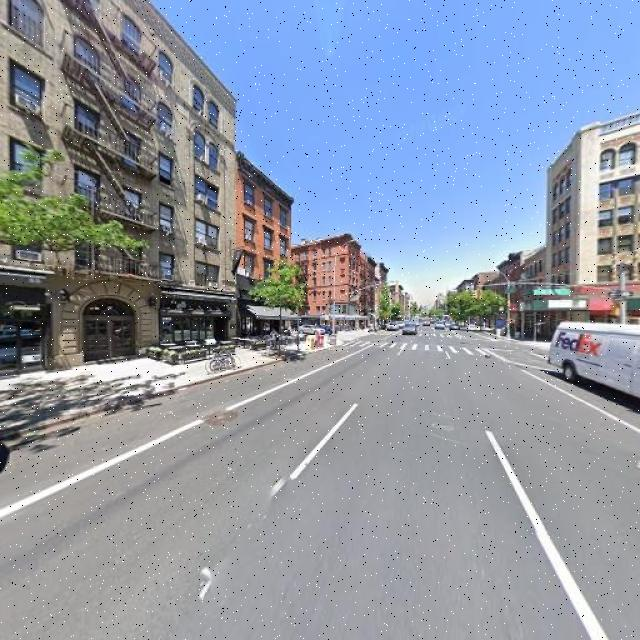Building: (1, 1, 232, 379), (550, 110, 640, 347), (234, 150, 290, 347), (268, 233, 358, 332), (359, 254, 365, 328), (368, 262, 373, 327)
